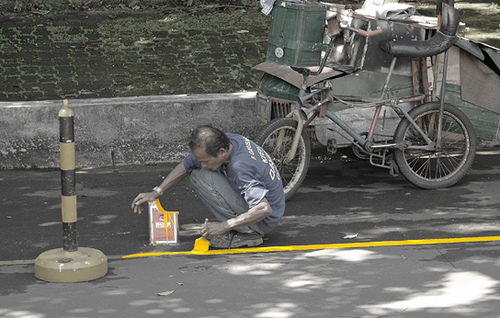without_mask: (191, 132, 233, 172)
